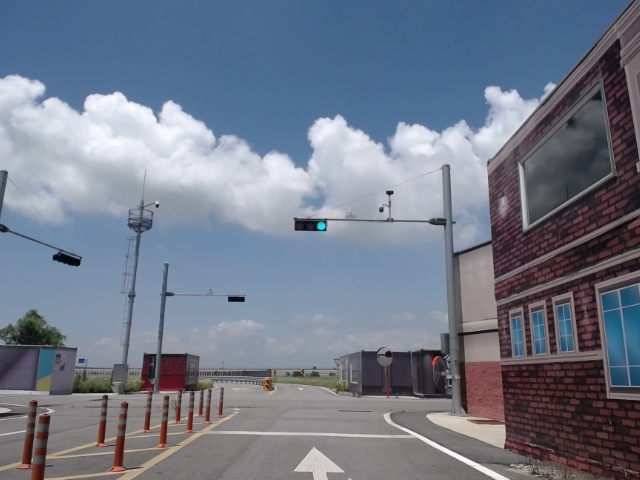green_3: (294, 221, 326, 230)
